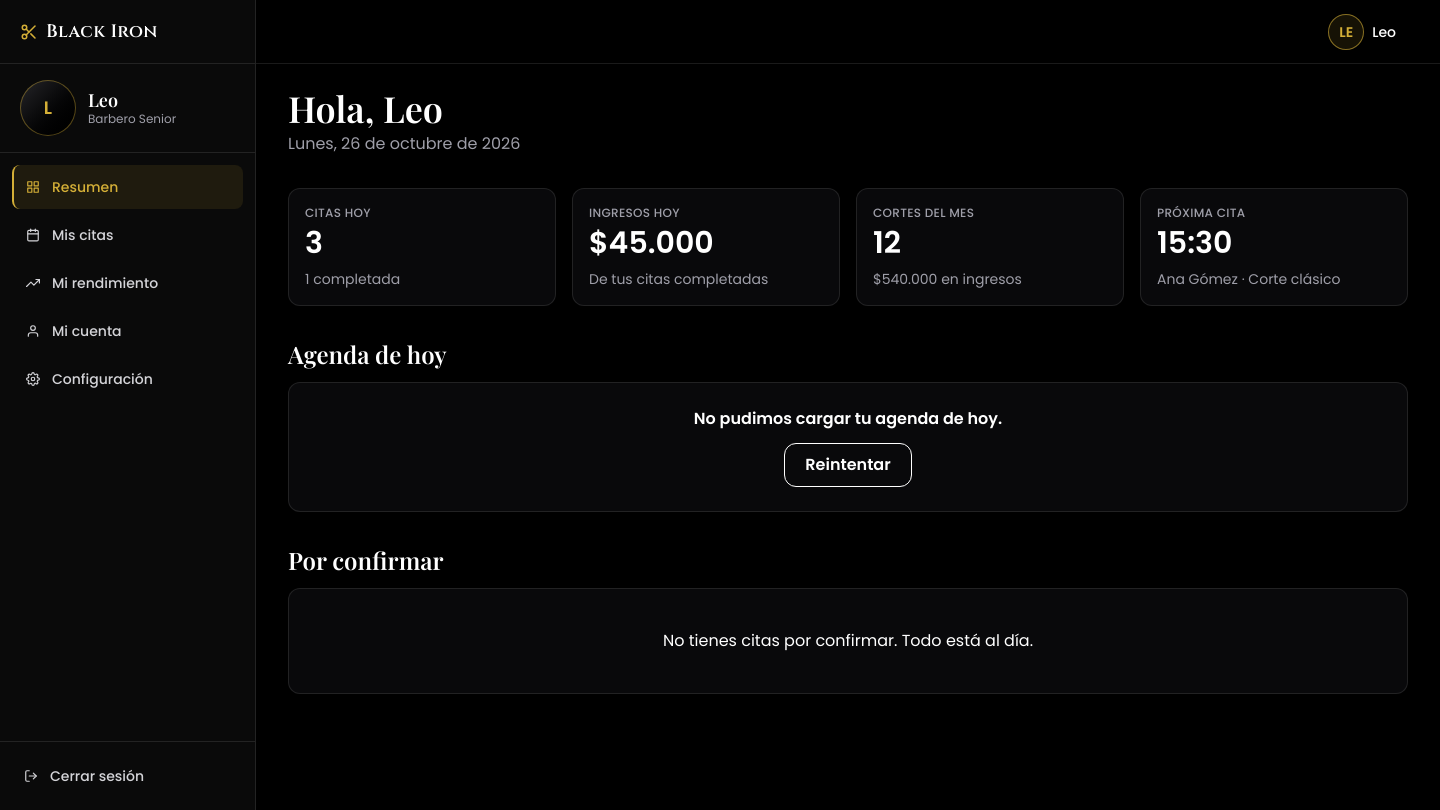
it: Resumen › error en la agenda: mensaje y "Reintentar" propios
What coordinates should you click on to do the following:
click the button "Reintentar"
I would click on:
 (848, 465)
Its box is [784,443,912,487].
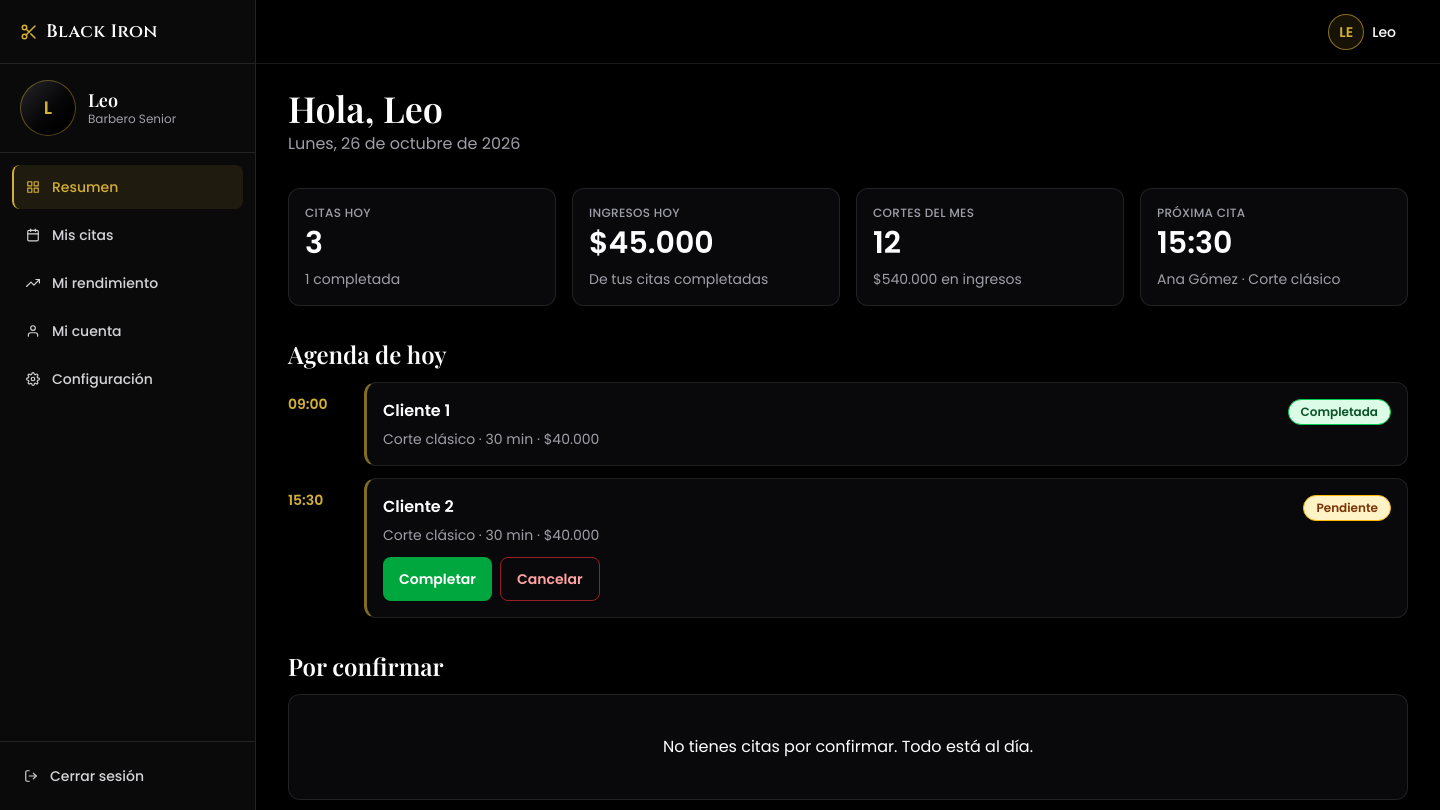
expect the text "Cliente 2" is shown: met, box [383,495,454,519]
